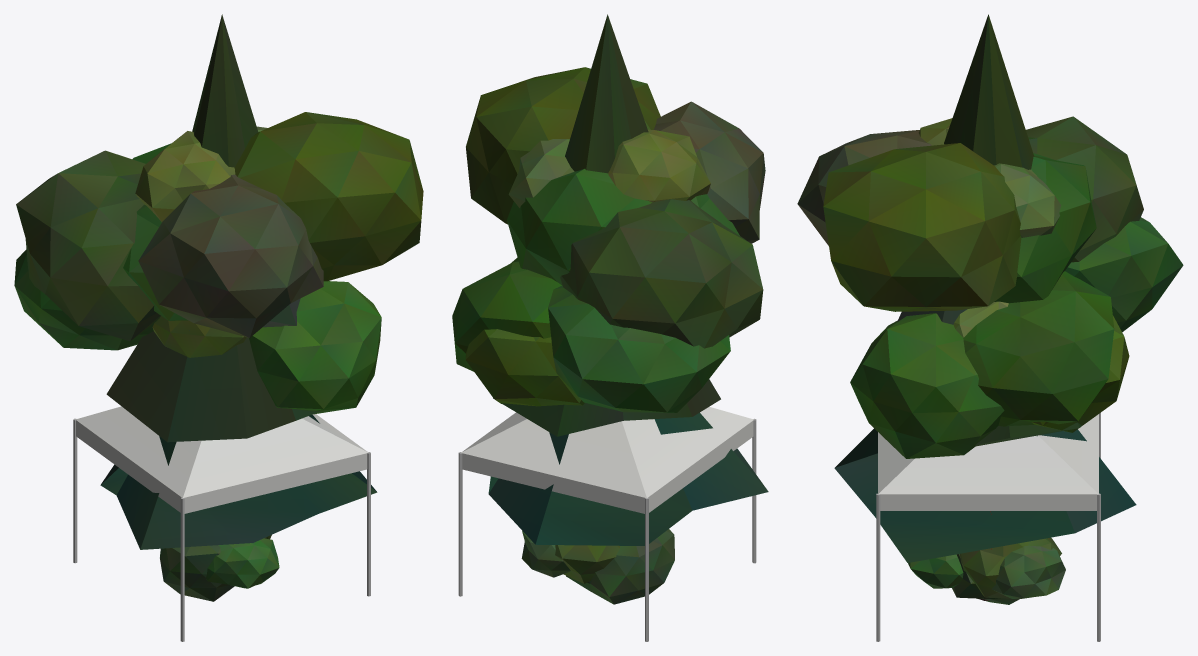
File: env.glb
3 renders of one model, left to right at view 1: azimuth 30°, elevation 25°; view 2: azimuth 150°, elevation 25°; view 3: azimuth 270°, elevation 25°, orthographic. The views are drawn at different scales.
Visible parts, largest first — view 1: Oak, Pine, Tent, Birch, Bush; view 2: Oak, Pine, Tent, Birch, Bush; view 3: Oak, Pine, Tent, Bush, Birch.
Boxes of the visible parts, x1=… form: Oak: x1=14, y1=112, x2=423, y2=414; Pine: x1=100, y1=14, x2=377, y2=549; Tent: x1=73, y1=406, x2=370, y2=641; Birch: x1=135, y1=126, x2=267, y2=357; Bush: x1=160, y1=535, x2=279, y2=601; Oak: x1=452, y1=67, x2=765, y2=412; Pine: x1=488, y1=14, x2=768, y2=545; Tent: x1=458, y1=406, x2=756, y2=641; Birch: x1=508, y1=129, x2=710, y2=207; Bush: x1=521, y1=529, x2=674, y2=604; Oak: x1=797, y1=116, x2=1183, y2=600; Pine: x1=834, y1=14, x2=1136, y2=562; Tent: x1=876, y1=412, x2=1100, y2=641; Bush: x1=908, y1=537, x2=1065, y2=604; Birch: x1=918, y1=118, x2=1061, y2=337.
Bounding box in the file's own units: 5.17 × 8.92 × 5.25.
